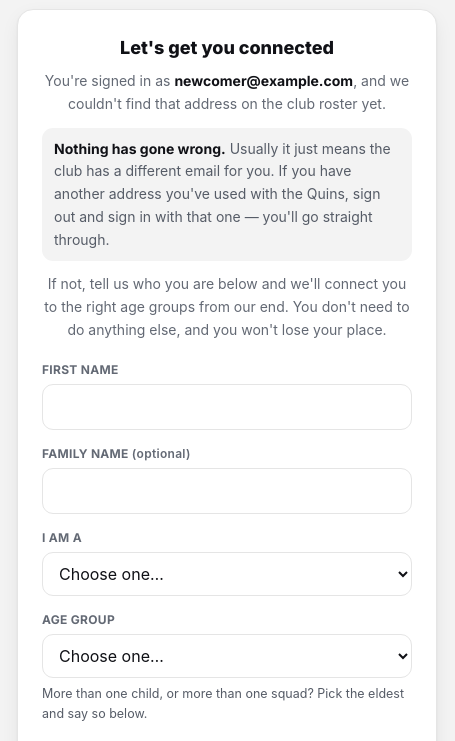
Test: RequestAccess › saves the name before the request, then confirms it was sent
The image size is (455, 741).
Type "Nina" into the field labelled "First name".
click(227, 406); type("Nina")  # box [42, 384, 412, 430]
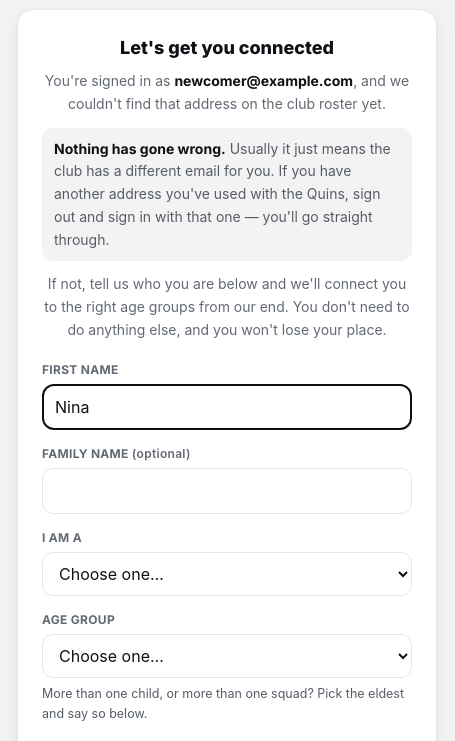
Type "Newcomer" into the field labelled "Family name (optional)".
click(227, 490); type("Newcomer")  # box [42, 468, 412, 514]
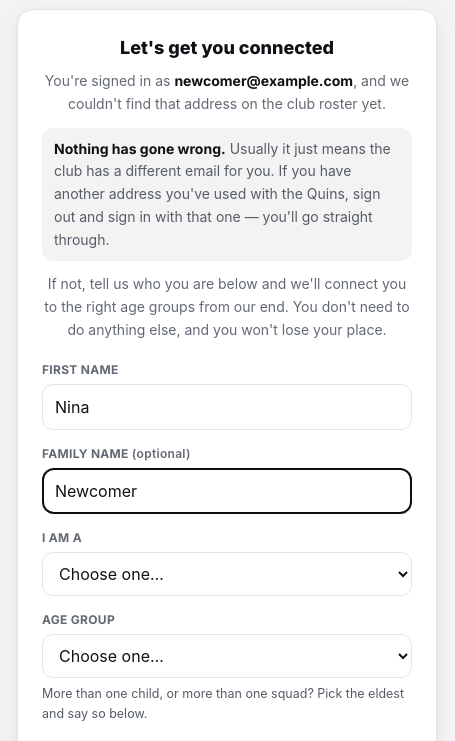
Select "Parent or guardian" in the dropdown labelled "I am a" at (227, 574), box [42, 552, 412, 596]
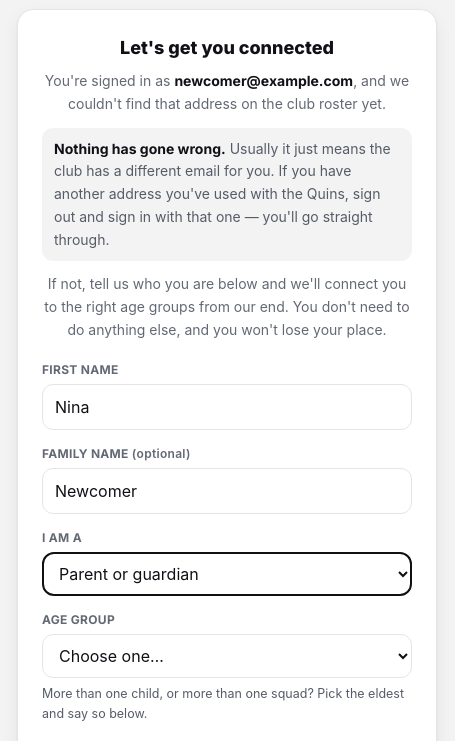
Select "U10 Mixed" in the dropdown labelled "Age group" at (227, 656), box [42, 634, 412, 678]
(page scrolled)
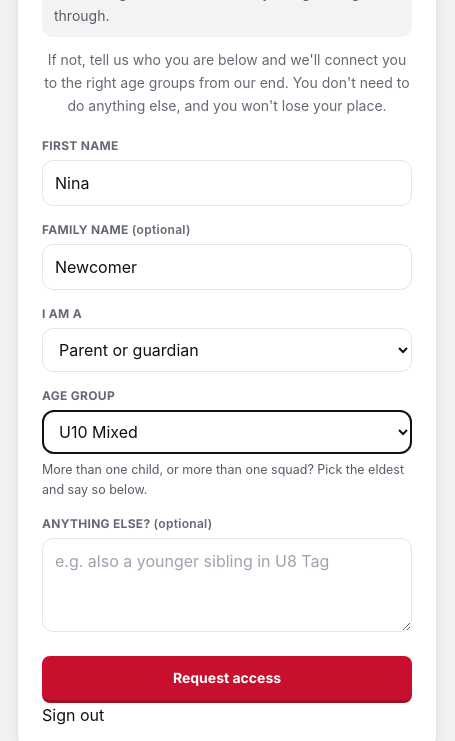
Type "Also a sibling in U8 Tag" into the text box labelled "Anything else? (optional)".
click(227, 585); type("Also a sibling in U8 Tag")  # box [42, 538, 412, 632]
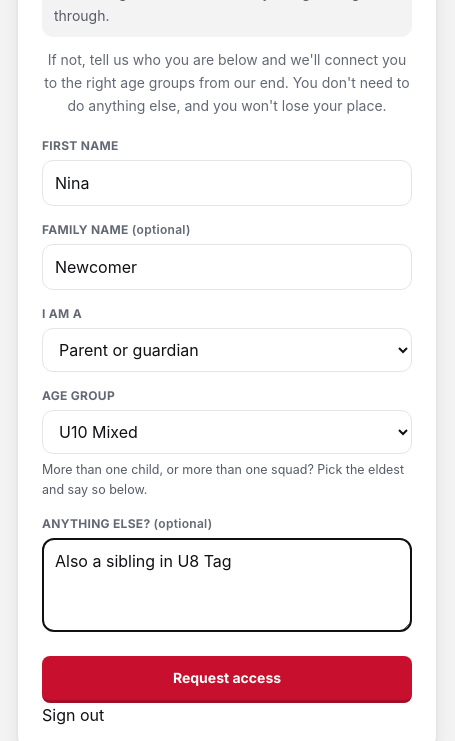
Click the button "Request access".
click(227, 679)  # box [42, 656, 412, 703]
(page scrolled)
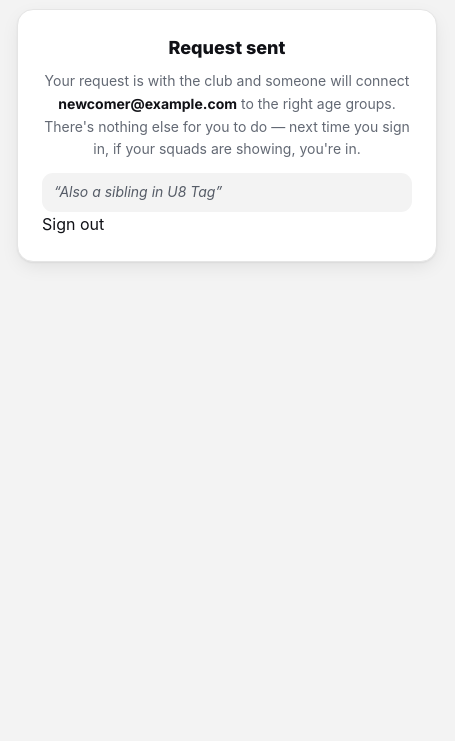
Result: the text "request is with the club" is shown at [45, 72, 409, 89]
Result: the button "Request access" is gone
Result: the text "“Also a sibling in U8 Tag”" is shown at [42, 173, 412, 212]
